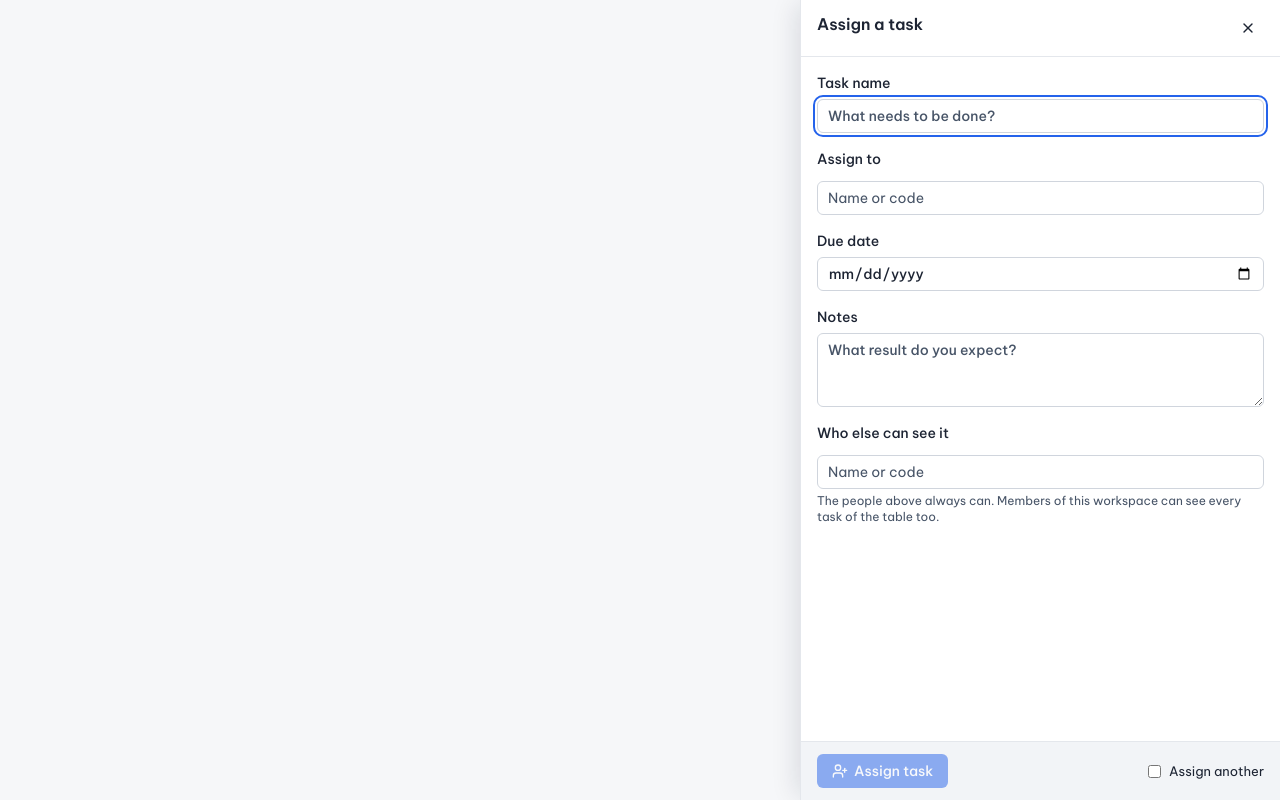
Test case: AssignTaskDrawer › needs a name and a person before it can be sent
Expected: the button "Assign task" is disabled, [817,754,948,788]
In the field labelled "Task name": (1040, 116) [817,99,1264,133], type "Prepare the report"
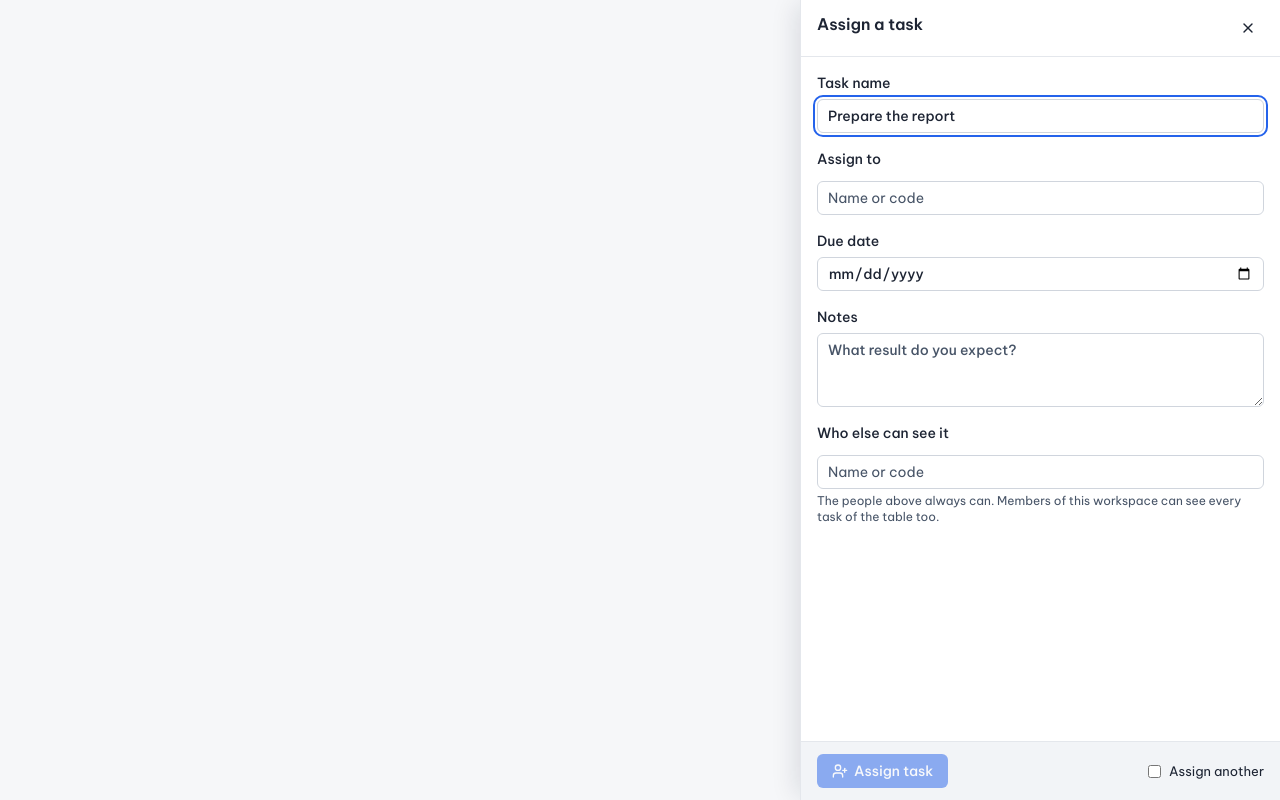
Expected: the button "Assign task" is disabled, [817,754,948,788]
In the search field with placeholder "Name or code" below "Assign to": (1040, 198) [817,181,1264,215], type "a"
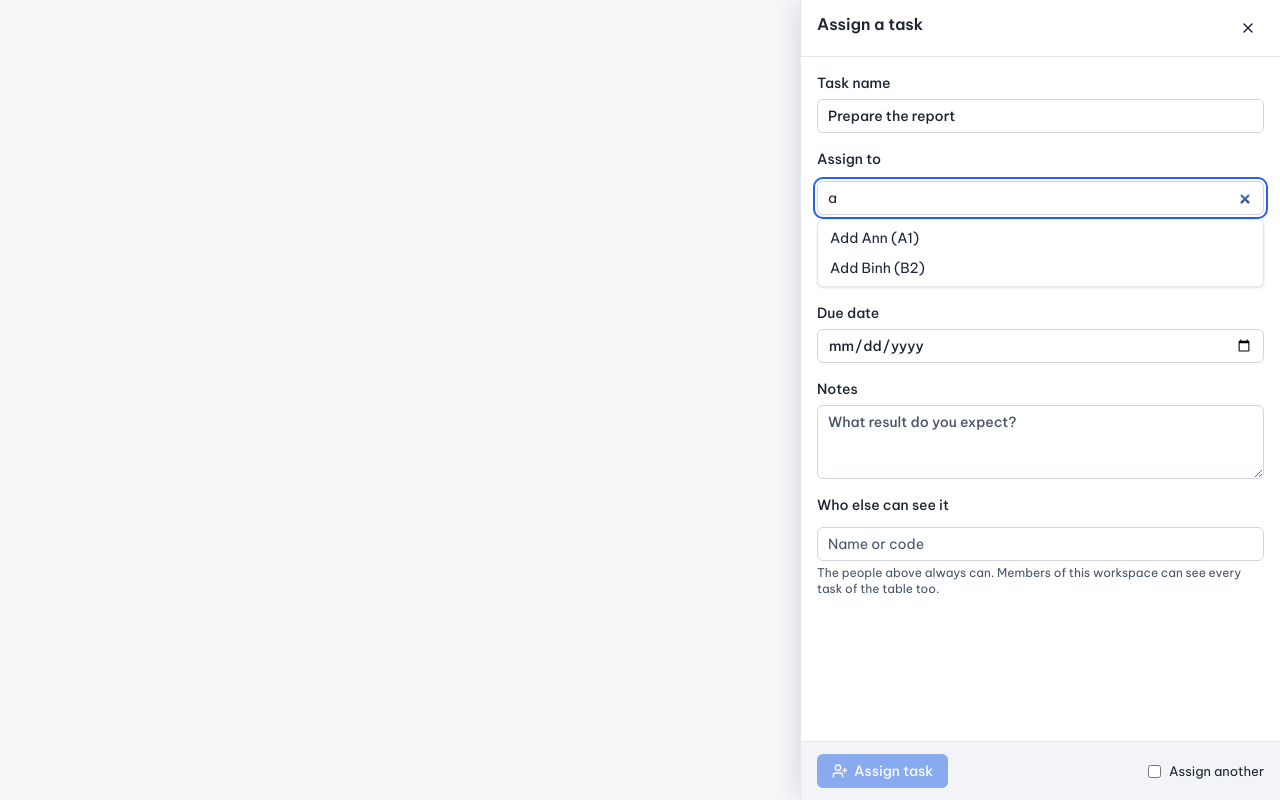
Click the button "Add Ann (A1)": (846, 238) [822,224,1259,252]
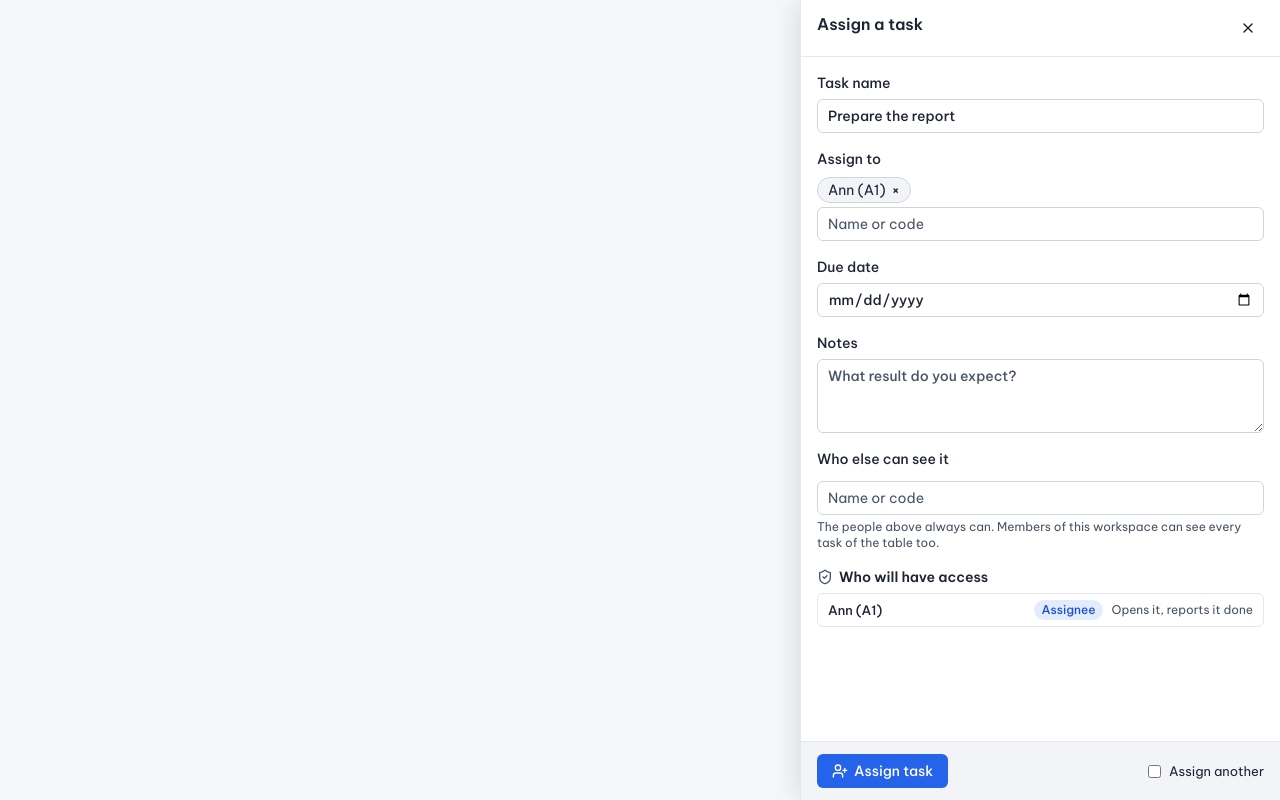
Result: the button "Assign task" is enabled at [817,754,948,788]
